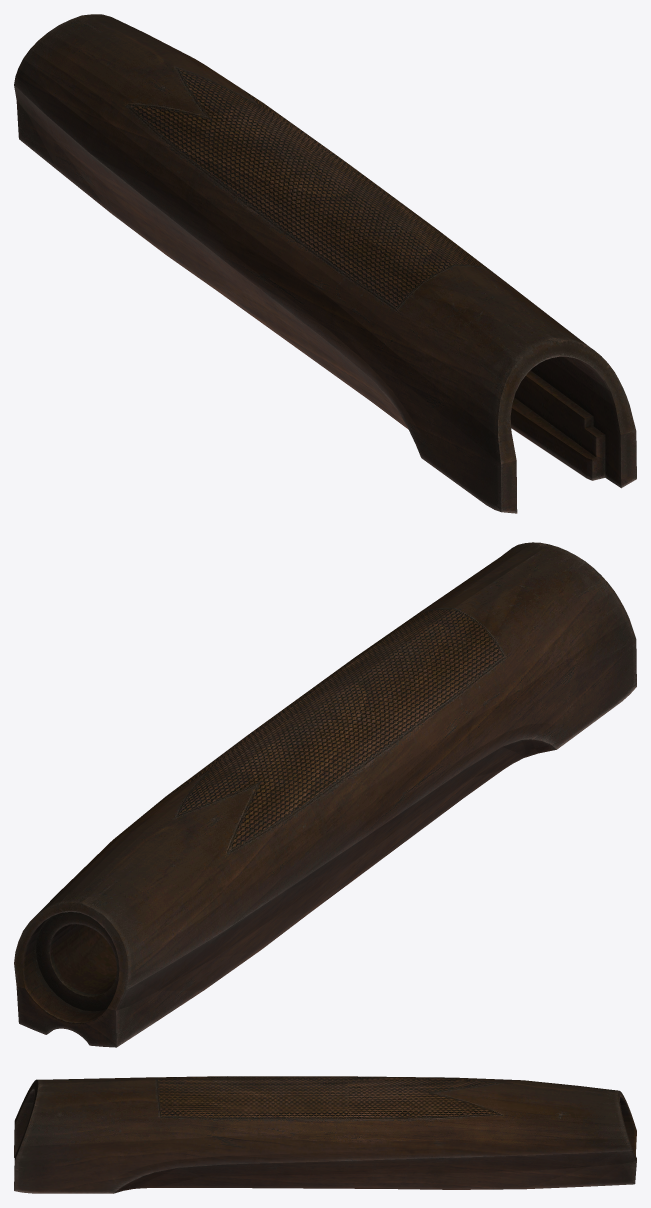
3 renders of one model, top to bottom at view 1: azimuth 30°, elevation 25°; view 2: azimuth 150°, elevation 25°; view 3: azimuth 270°, elevation 25°, orthographic. The views are drawn at different scales.
Parts seen in each view (by area): view 1: TW_607d5aa50494a626335e12ed_PZ_Import; view 2: TW_607d5aa50494a626335e12ed_PZ_Import; view 3: TW_607d5aa50494a626335e12ed_PZ_Import.
Boxes of the visible parts, x1,y1,x2,y2 form: TW_607d5aa50494a626335e12ed_PZ_Import: [14, 14, 636, 513]; TW_607d5aa50494a626335e12ed_PZ_Import: [14, 542, 636, 1047]; TW_607d5aa50494a626335e12ed_PZ_Import: [14, 1076, 636, 1193].
Bounding box in the file's own units: 0.031 × 0.193 × 0.0333.
1 material, 1 textured.
